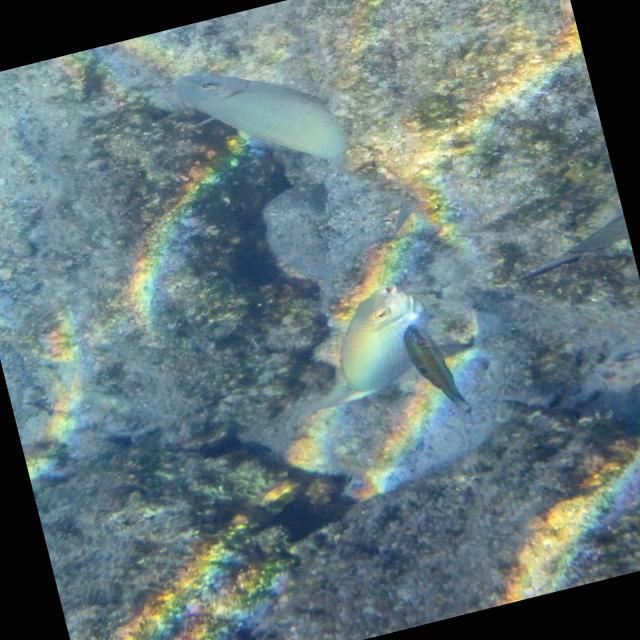Sokar Baligi: (128, 8, 413, 242), (394, 312, 486, 422)
